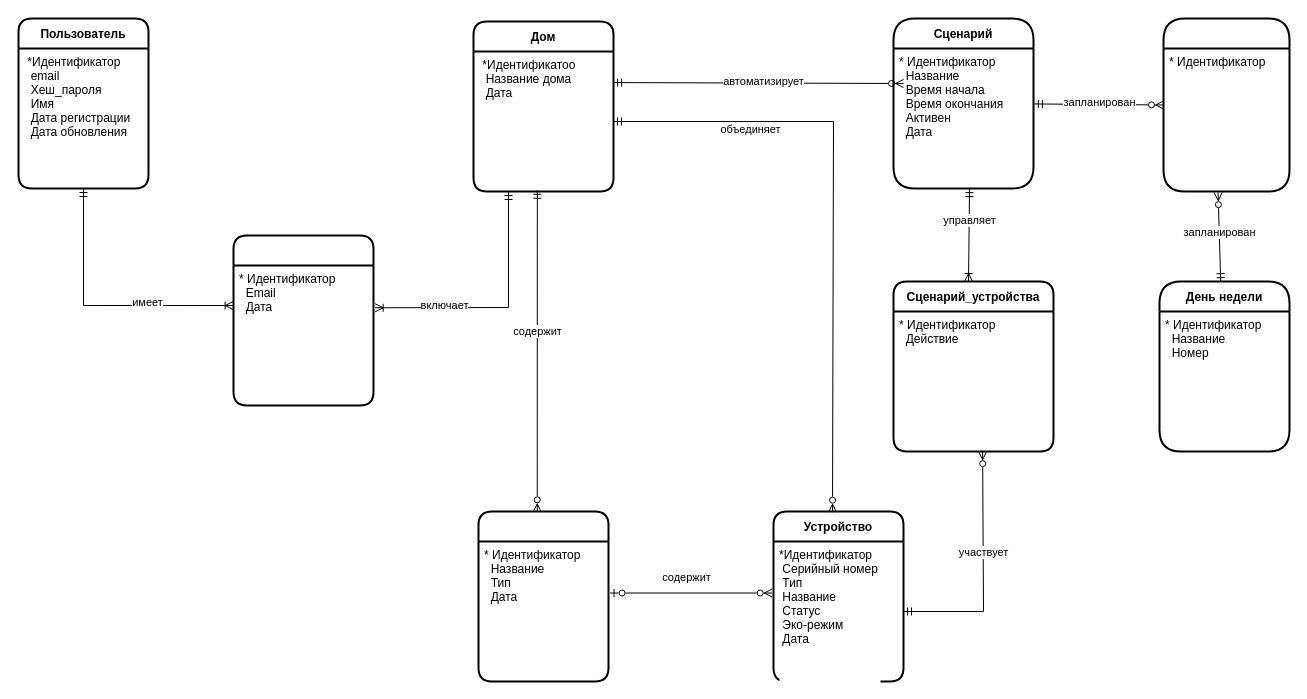
Image size: 1307x699. Some labels were removed from this diagram. The shapes that lost their labels are listed below. From the top down, each one's box as (x1, y1, x2, y2) in pixels, then its label:
(1162, 17, 1290, 192): День недели в сценариии
(232, 234, 374, 406): Член дома
(477, 510, 609, 682): Комната
